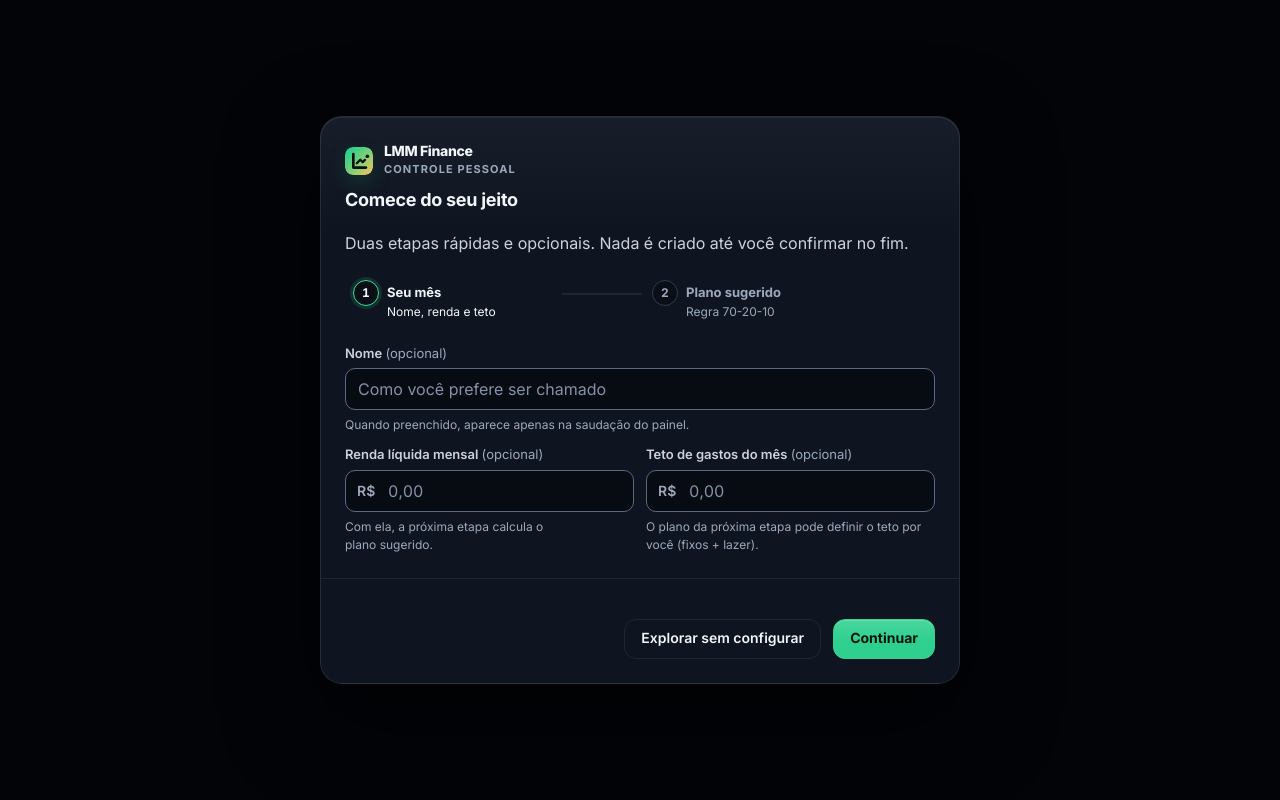
Test: configuração inicial (CR-27 + MEL-45) › pula o plano salvando só o planejamento
The width and height of the screenshot is (1280, 800).
Type "5000" into the field labelled "Renda líquida mensal (opcional)".
click(490, 491); type("5000")  # box [345,470,634,512]
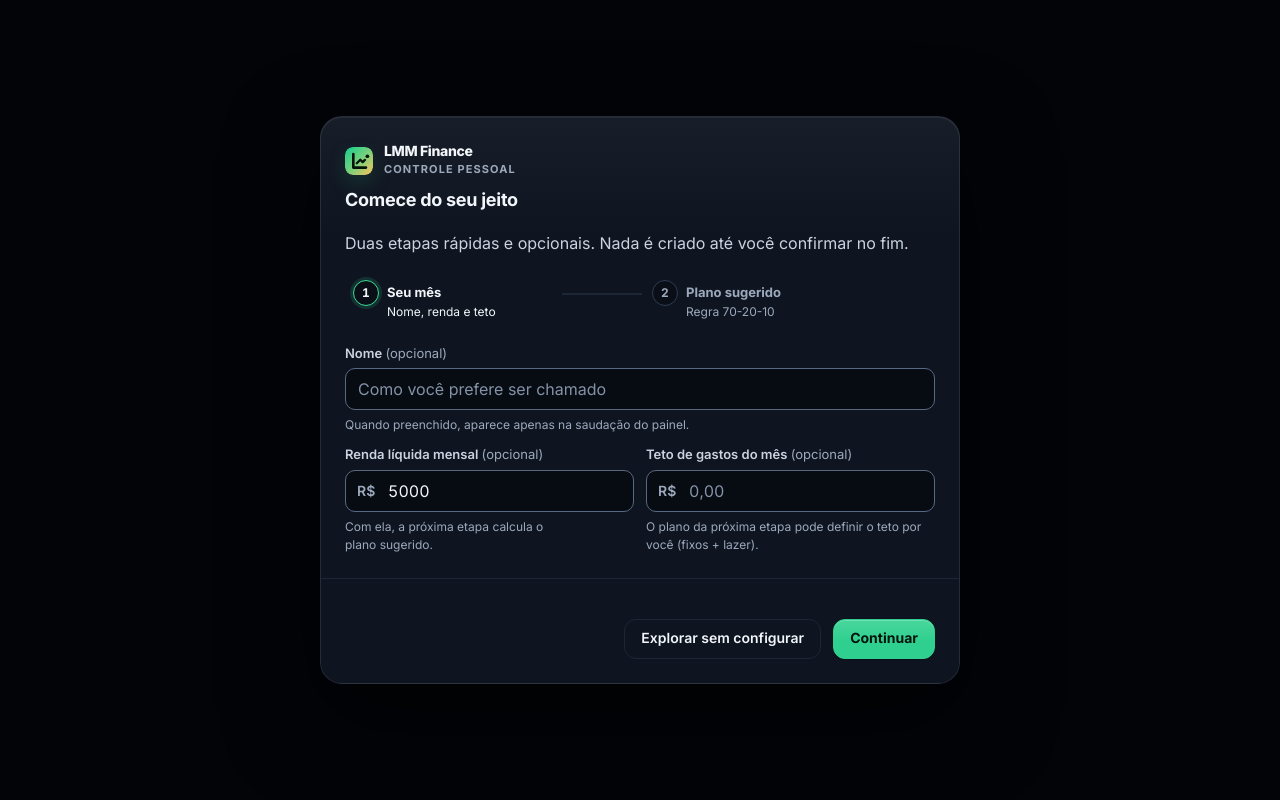
Click the button "Continuar".
click(884, 639)  # box [833,619,935,659]
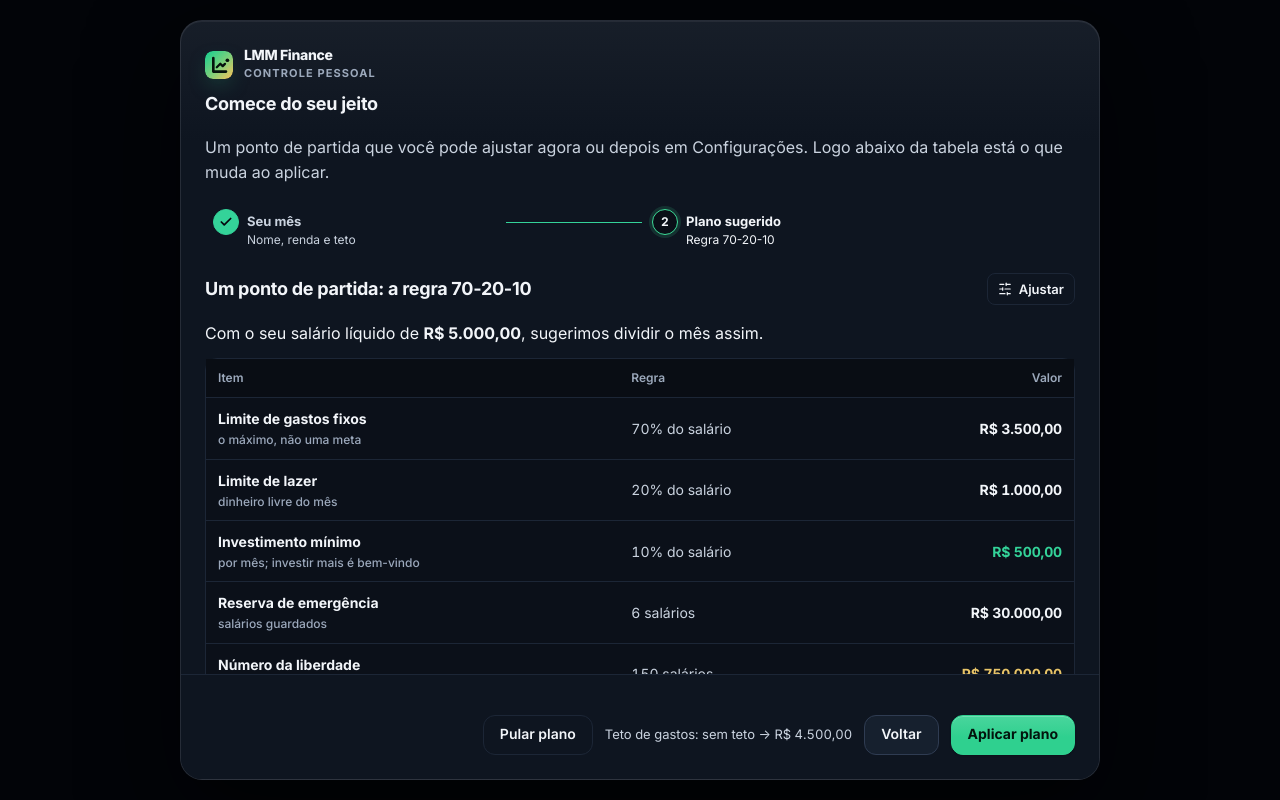
Click the button "Pular plano".
click(538, 735)  # box [483,715,593,755]
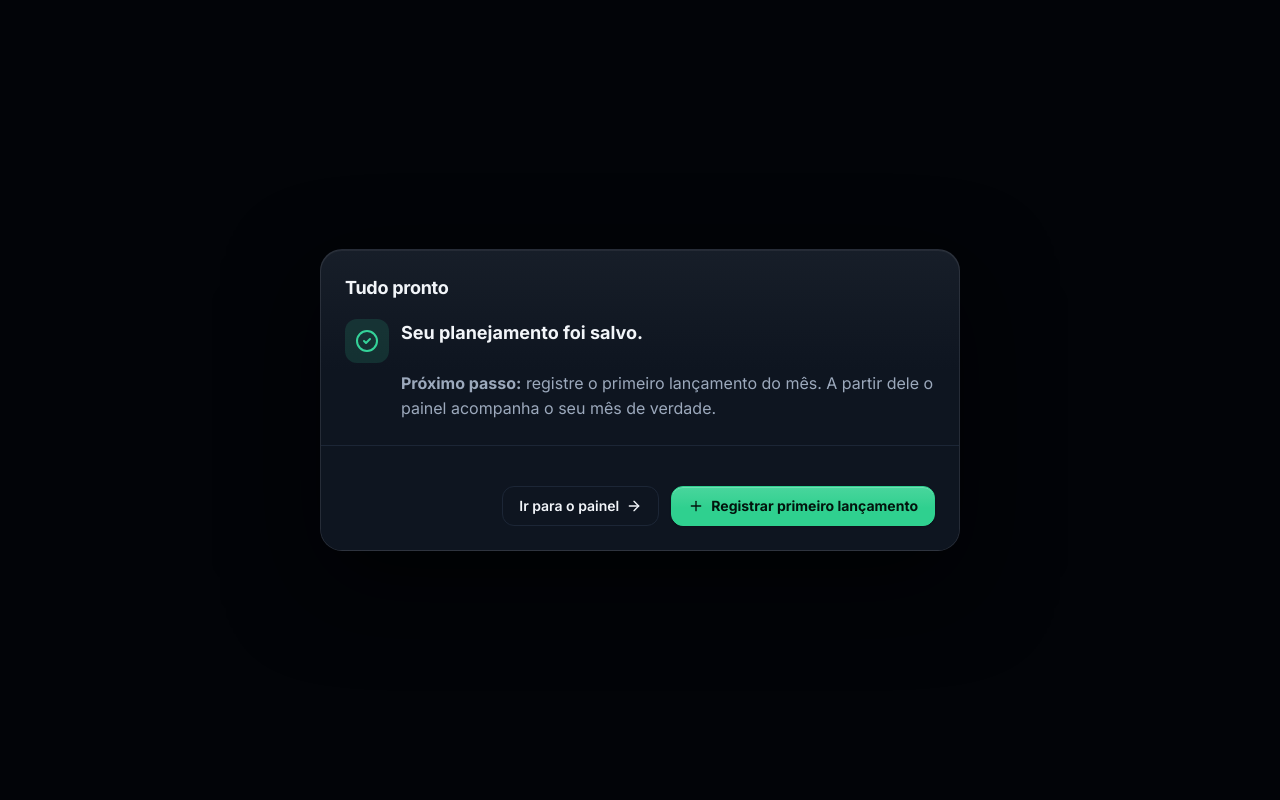
Now the text "Seu planejamento foi salvo." is shown, box [401,322,643,344]
